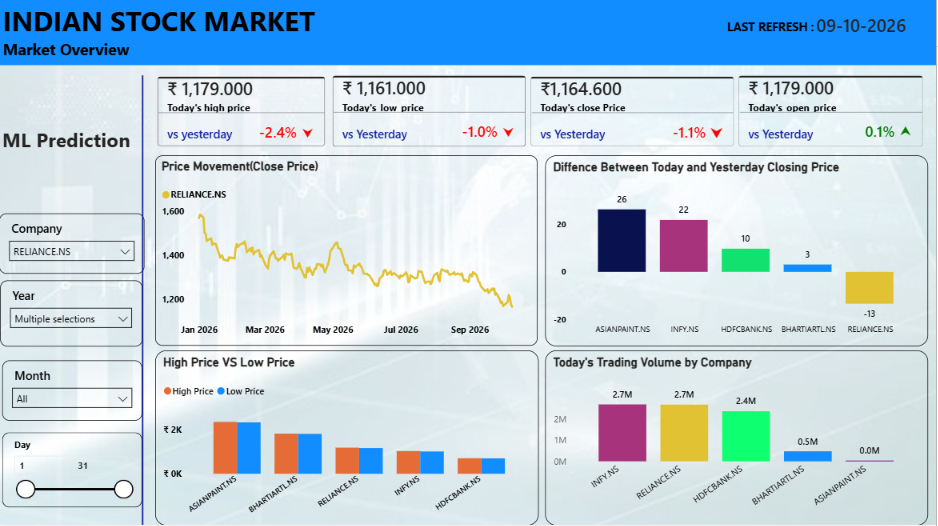

This screenshot's page, from the dashboard's own definition file:
{"tool":"powerbi","page":{"name":"Stocks Overview","canvas":[1280,720],"ordinal":0},"visuals":[{"type":"textbox","box":[0,0,1280.3,91.2],"z":0},{"type":"lineChart","title":"Price Movement(Close Price)","fields":{"Category":["indian_stock.Date_time"],"Y":["Sum(indian_stock.Closeing_time_price)"],"Series":["indian_stock.Company"]},"box":[213.2,214.5,522.8,260.1],"z":1000},{"type":"slicer","fields":{"Values":["indian_stock.Date.Variation.Date Hierarchy.Year"]},"box":[1.5,385.1,194.1,90.3],"z":2000},{"type":"slicer","fields":{"Values":["indian_stock.Date.Variation.Date Hierarchy.Month"]},"box":[4.5,495,191.1,82.7],"z":3000},{"type":"slicer","fields":{"Values":["indian_stock.Company"]},"box":[0,293.4,198.6,82.7],"z":4000},{"type":"shape","box":[190.2,105.2,12.1,615.2],"z":5000},{"type":"cardVisual","fields":{"Data":["indian_stock.Today's_low_price"]},"box":[438.3,89.4,298.4,131.2],"z":6000},{"type":"cardVisual","fields":{"Data":["indian_stock.Today's_high_price"]},"box":[199,90.8,263.8,129.8],"z":7000},{"type":"clusteredColumnChart","title":"High Price VS Low Price","fields":{"Category":["indian_stock.Company"],"Y":["indian_stock.Today's_high_price","indian_stock.Today's_low_price"]},"box":[212.9,480.8,524.3,239],"z":8000},{"type":"columnChart","title":"Diffence Between Today and Yesterday Closing Price","fields":{"Category":["indian_stock.Company"],"Y":["indian_stock.Todays_closing_price"]},"box":[746.5,214.1,522.8,260.7],"z":9000},{"type":"slicer","fields":{"Values":["indian_stock.Date.Variation.Date Hierarchy.Day"]},"box":[4.5,592.8,191.1,102.3],"z":10000},{"type":"cardVisual","fields":{"Data":["indian_stock.Today's_close_Price"]},"box":[709.4,90.8,312.9,129.8],"z":11000},{"type":"cardVisual","fields":{"Data":["indian_stock.Today's_open_price"]},"box":[993.4,89.4,286.9,131.2],"z":12000},{"type":"cardVisual","fields":{"Data":["indian_stock.TODAYDATE"]},"box":[1087.7,0,181,72.4],"z":13000},{"type":"columnChart","title":"Today''s Trading Volume by Company","fields":{"Category":["indian_stock.Company"],"Y":["indian_stock.Total_Stocks_sold_today"]},"box":[745.9,480.8,522.8,239],"z":14000},{"type":"actionButton","title":"ML Prediction","box":[4.3,175.2,185.1,39.9],"z":15000}]}

Visuals, with their boxes in screenshot pixels (x1, y1, x2, y2), scaled from the page's 1280x720 canvas onto the 938x526 screenshot:
textbox: locate(0, 0, 937, 67)
"Price Movement(Close Price)" lineChart: locate(156, 157, 539, 347)
slicer - indian_stock.Date.Variation.Date Hierarchy.Year: locate(1, 281, 143, 347)
slicer - indian_stock.Date.Variation.Date Hierarchy.Month: locate(3, 362, 143, 422)
slicer - indian_stock.Company: locate(0, 214, 146, 275)
shape: locate(139, 77, 148, 525)
cardVisual - indian_stock.Today's_low_price: locate(321, 65, 540, 161)
cardVisual - indian_stock.Today's_high_price: locate(146, 66, 339, 161)
"High Price VS Low Price" clusteredColumnChart: locate(156, 351, 540, 525)
"Diffence Between Today and Yesterday Closing Price" columnChart: locate(547, 156, 930, 347)
slicer - indian_stock.Date.Variation.Date Hierarchy.Day: locate(3, 433, 143, 508)
cardVisual - indian_stock.Today's_close_Price: locate(520, 66, 749, 161)
cardVisual - indian_stock.Today's_open_price: locate(728, 65, 937, 161)
cardVisual - indian_stock.TODAYDATE: locate(797, 0, 930, 53)
"Today''s Trading Volume by Company" columnChart: locate(547, 351, 930, 525)
"ML Prediction" actionButton: locate(3, 128, 139, 157)
